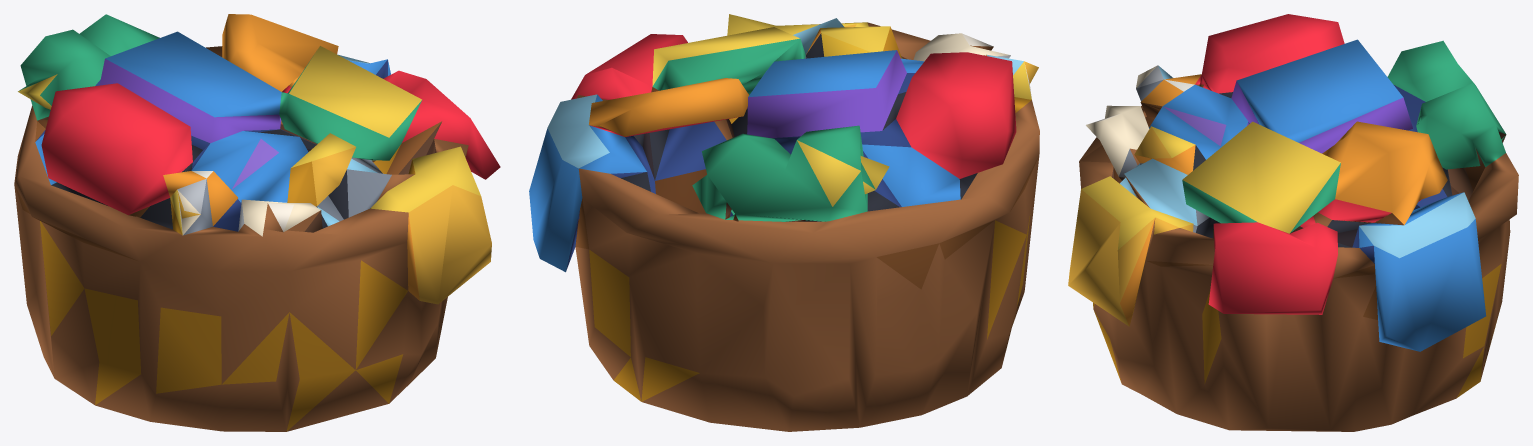
Rendered from SM_basket_clothes.glb.
The picture shows the model from 3 angles, left to right: view 1: azimuth 30°, elevation 25°; view 2: azimuth 150°, elevation 25°; view 3: azimuth 270°, elevation 25°; orthographic projection. The views are drawn at different scales.
Visible parts, largest first — view 1: SM_basket_clothes; view 2: SM_basket_clothes; view 3: SM_basket_clothes.
Part boxes in pixels (x1,y1,x2,y2): SM_basket_clothes: [14, 14, 500, 431]; SM_basket_clothes: [529, 14, 1039, 431]; SM_basket_clothes: [1068, 14, 1518, 431].
Size of the model in its own units: 0.685 by 0.45 by 0.6728.
1 material, 1 textured.
